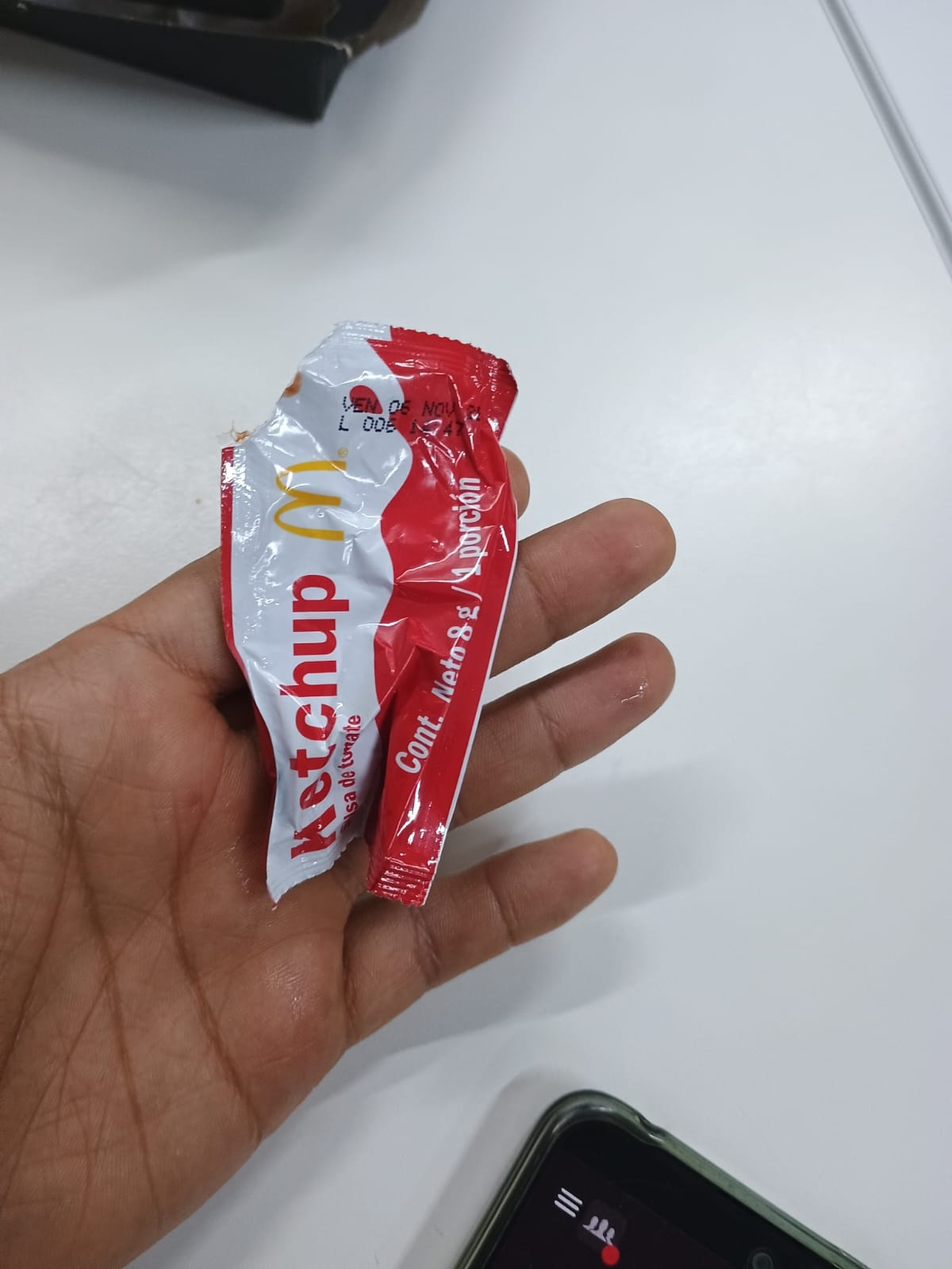Ordinario: (221, 320, 522, 910)
